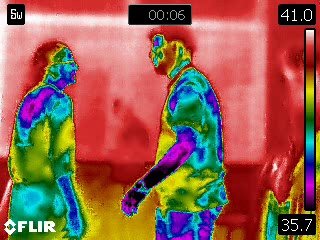human: (121, 24, 226, 240), (2, 38, 89, 240)
